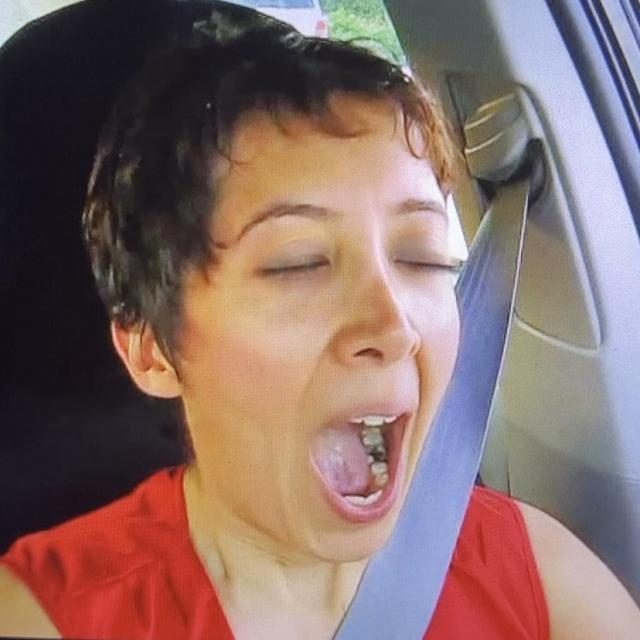open-mouth: (298, 394, 421, 528)
